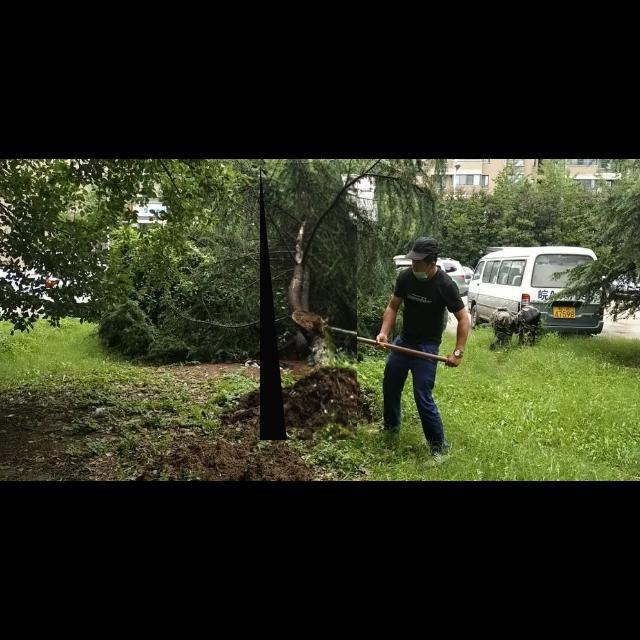fallen_tree: (260, 163, 358, 441)
